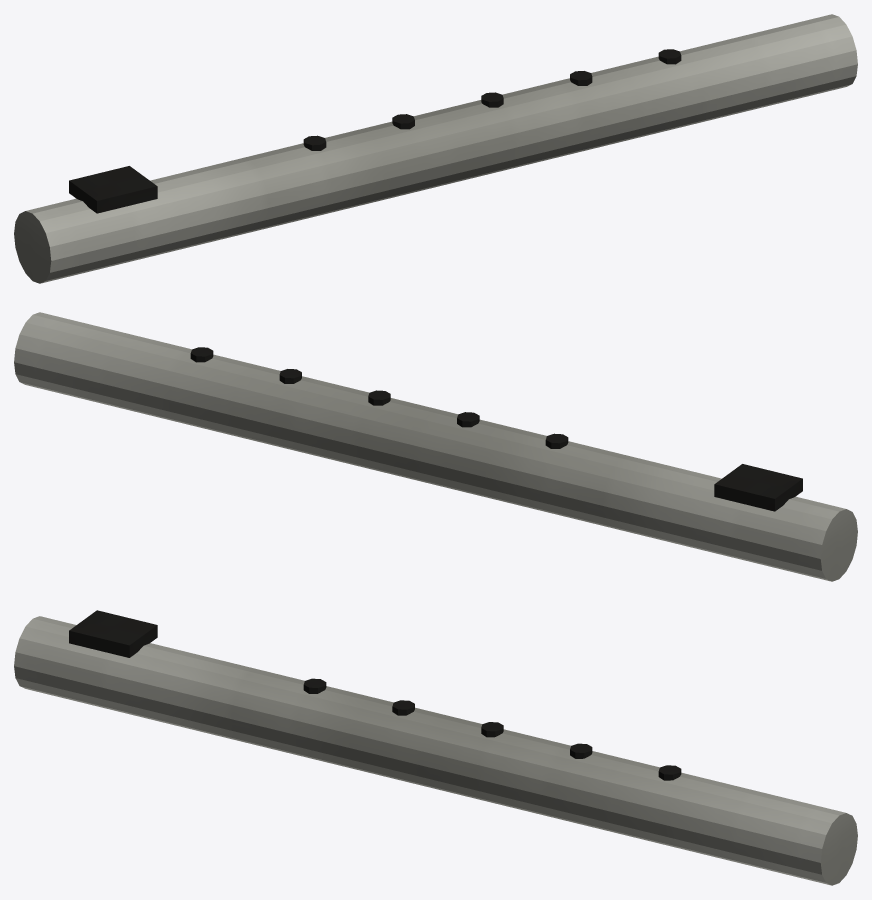
The model's file is MU15_PipeWhistle.glb.
3 renders of one model, top to bottom at view 1: azimuth 30°, elevation 25°; view 2: azimuth 150°, elevation 25°; view 3: azimuth 330°, elevation 25°, orthographic.
Visible parts, largest first — view 1: MU15_PipeWhistle; view 2: MU15_PipeWhistle; view 3: MU15_PipeWhistle.
Part boxes in pixels (x1,y1,x2,y2): MU15_PipeWhistle: (14,14,857,283); MU15_PipeWhistle: (14,312,857,581); MU15_PipeWhistle: (14,610,857,885).
Bounding box in the file's own units: 0.2 × 0.0185 × 0.016.
2 materials, 2 textured.
